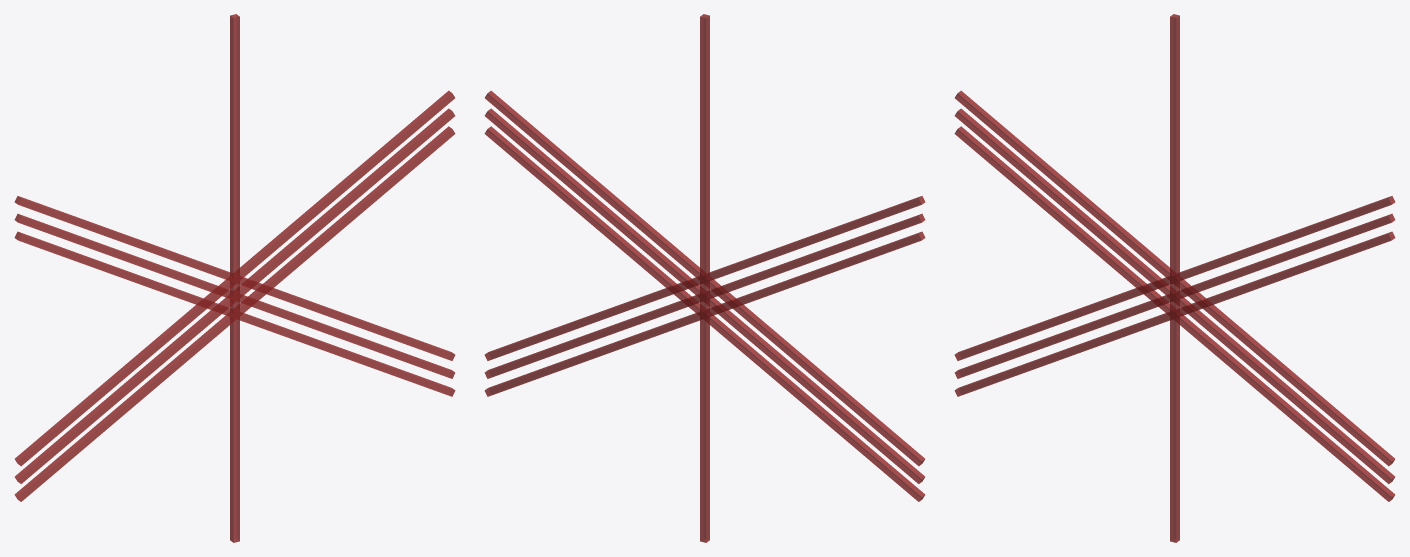
File: Lvl_022.fbx
The picture shows the model from 3 angles, left to right: view 1: azimuth 30°, elevation 25°; view 2: azimuth 150°, elevation 25°; view 3: azimuth 330°, elevation 25°; orthographic projection.
Parts seen in each view (by area): view 1: pCube78, pCube77, pCube76, pCube79, pCube75, pCube74, pCube2; view 2: pCube78, pCube77, pCube76, pCube79, pCube74, pCube75, pCube2; view 3: pCube75, pCube2, pCube74, pCube79, pCube78, pCube77, pCube76.
Boxes of the visible parts, <box> form: pCube78: <box>15,90,454,466</box>; pCube77: <box>14,108,455,483</box>; pCube76: <box>14,126,455,501</box>; pCube79: <box>230,14,239,542</box>; pCube75: <box>14,231,455,396</box>; pCube74: <box>14,213,455,378</box>; pCube2: <box>14,196,455,360</box>; pCube78: <box>485,90,924,466</box>; pCube77: <box>484,108,925,483</box>; pCube76: <box>484,126,925,501</box>; pCube79: <box>700,14,709,542</box>; pCube74: <box>484,213,925,378</box>; pCube75: <box>484,231,925,396</box>; pCube2: <box>484,196,925,360</box>; pCube75: <box>954,126,1395,501</box>; pCube2: <box>955,90,1394,466</box>; pCube74: <box>954,108,1395,483</box>; pCube79: <box>1170,14,1179,542</box>; pCube78: <box>954,196,1395,360</box>; pCube77: <box>954,213,1395,378</box>; pCube76: <box>954,231,1395,396</box>.
Bounding box in the file's own units: 1745 × 2000 × 25.
